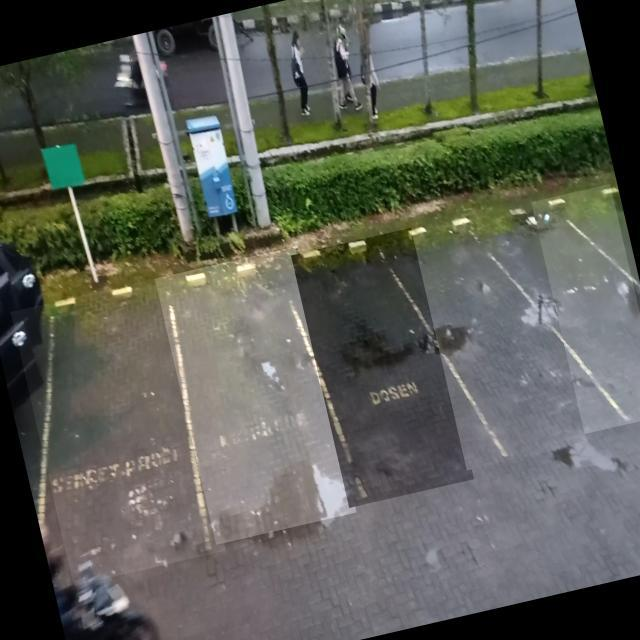empty: (11, 276, 226, 585), (154, 246, 356, 544), (290, 225, 474, 508), (410, 197, 586, 470), (519, 183, 640, 436)
